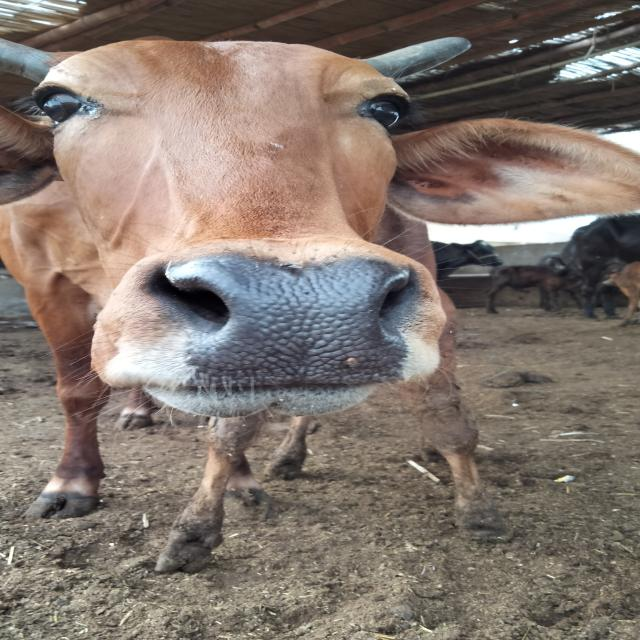muzzles: (131, 252, 431, 396)
